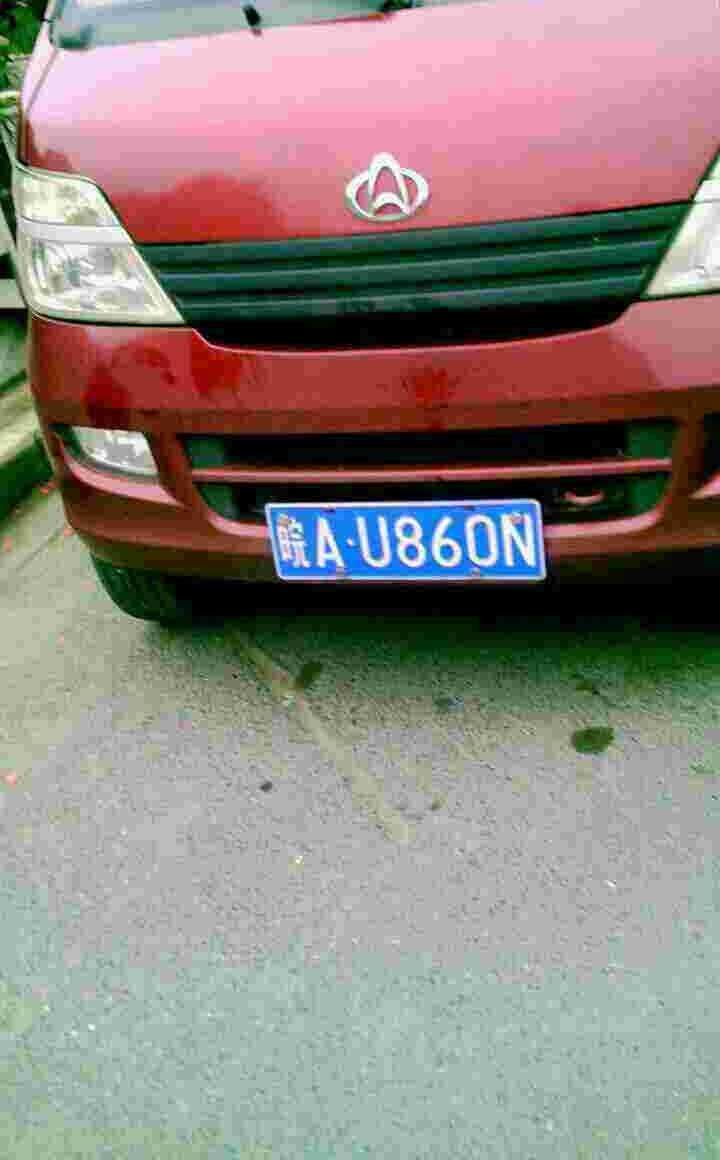car: (265, 505, 553, 591)
